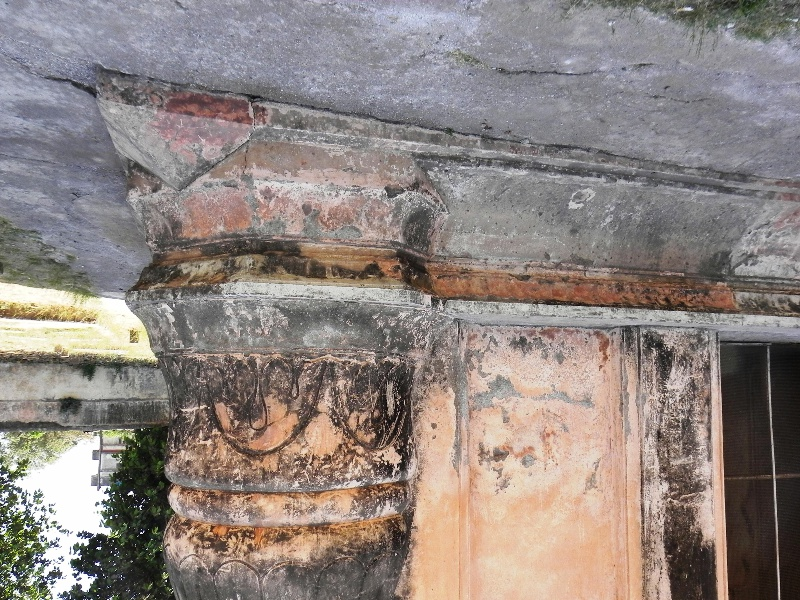Spalling: (468, 369, 526, 415)
